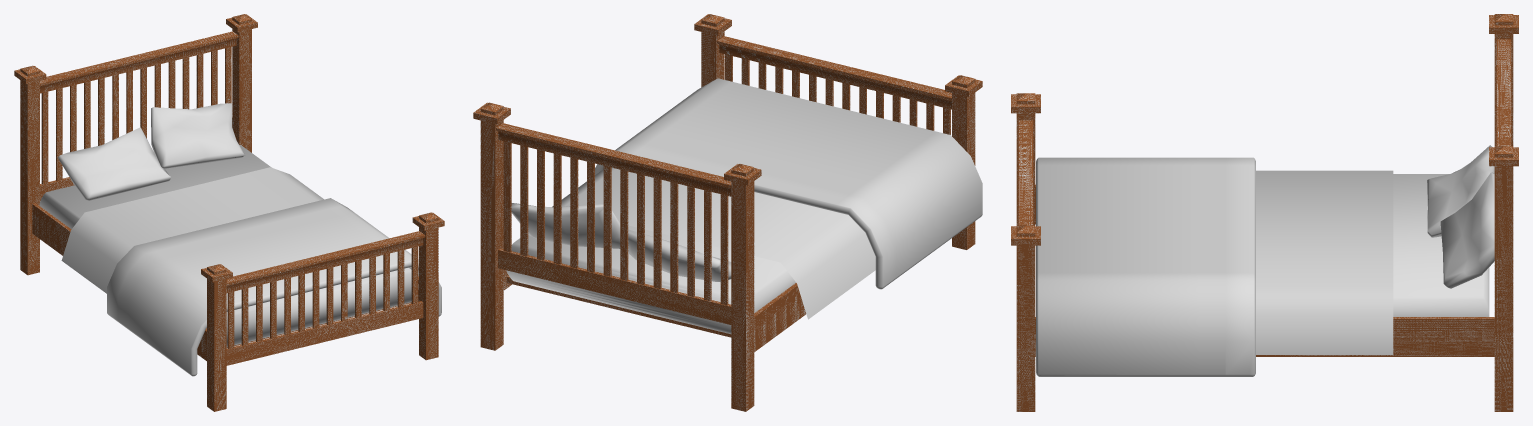
The model's file is bed_1.dae.
3 views of the same model, side by side, from view 1: azimuth 30°, elevation 25°; view 2: azimuth 150°, elevation 25°; view 3: azimuth 270°, elevation 25° (orthographic). The views are drawn at different scales.
Visible parts, largest first — view 1: group_3, group_0 (×7), group_1, pillow1 (×2), group_4, Group_2 (×14), Group_1 (×11), Group_3; view 2: group_3, group_0 (×7), group_1, Group_1 (×14), group_4, pillow1 (×2), Group_3, Component_2; view 3: group_3, group_1, group_0 (×6), group_4, pillow1 (×2), Group_3.
Part boxes in pixels (left/top/right/bottom): group_3: left=107, top=198, right=441, bottom=376; group_0 (×7): left=20, top=29, right=438, bottom=411; group_1: left=61, top=167, right=418, bottom=293; pillow1 (×2): left=58, top=103, right=244, bottom=200; group_4: left=39, top=145, right=418, bottom=347; Group_2 (×14): left=227, top=246, right=418, bottom=349; Group_1 (×11): left=41, top=47, right=231, bottom=184; Group_3: left=32, top=203, right=206, bottom=360; group_3: left=595, top=78, right=982, bottom=289; group_0 (×7): left=480, top=31, right=975, bottom=411; group_1: left=552, top=167, right=875, bottom=319; Group_1 (×14): left=503, top=141, right=728, bottom=305; group_4: left=506, top=225, right=795, bottom=334; pillow1 (×2): left=511, top=203, right=731, bottom=281; Group_3: left=754, top=283, right=806, bottom=351; Component_2: left=506, top=275, right=731, bottom=337; group_3: left=1036, top=157, right=1255, bottom=376; group_1: left=1256, top=170, right=1393, bottom=354; group_0 (×6): left=1016, top=34, right=1513, bottom=411; group_4: left=1393, top=174, right=1489, bottom=316; pillow1 (×2): left=1427, top=145, right=1494, bottom=288; Group_3: left=1035, top=317, right=1494, bottom=356.
Size of the model in its own units: 70.47 by 96.57 by 54.86.
